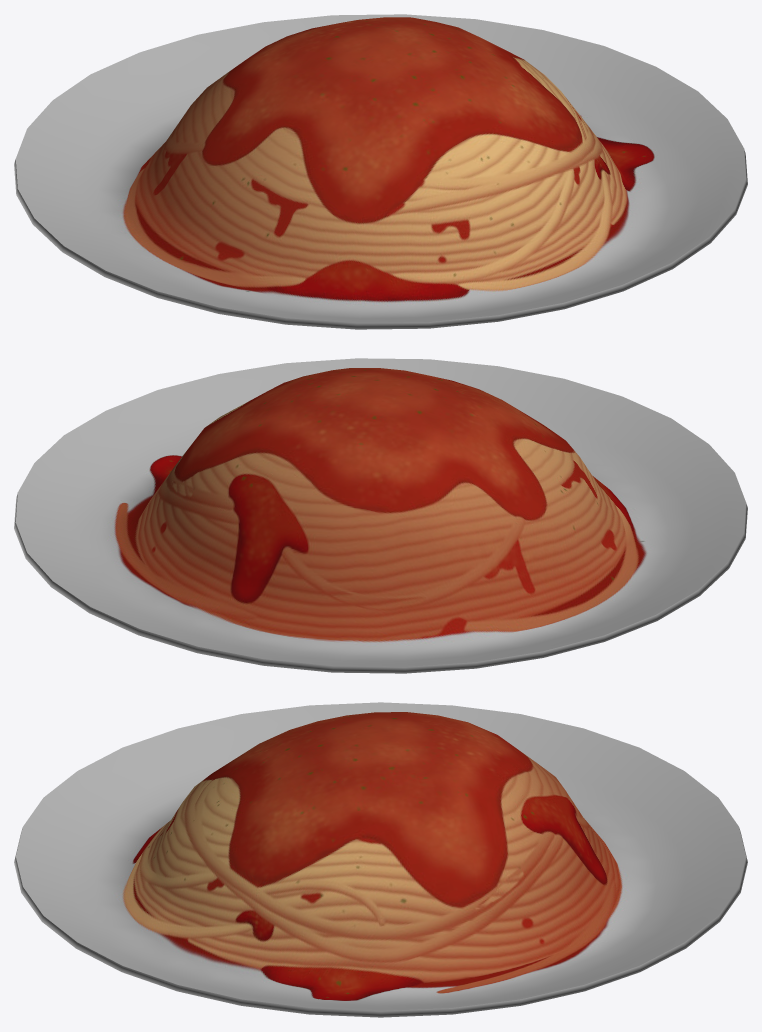
File: Spaghetti.fbx
The picture shows the model from 3 angles, top to bottom: view 1: azimuth 30°, elevation 25°; view 2: azimuth 150°, elevation 25°; view 3: azimuth 270°, elevation 25°; orthographic projection.
Parts seen in each view (by area): view 1: Spaghetti_1; view 2: Spaghetti_1; view 3: Spaghetti_1.
Boxes of the visible parts, x1=… form: Spaghetti_1: x1=14, y1=14, x2=747, y2=329; Spaghetti_1: x1=14, y1=358, x2=747, y2=673; Spaghetti_1: x1=14, y1=702, x2=747, y2=1017.
Bounding box in the file's own units: 99.91 × 27.86 × 99.91.
1 material, 1 textured.
